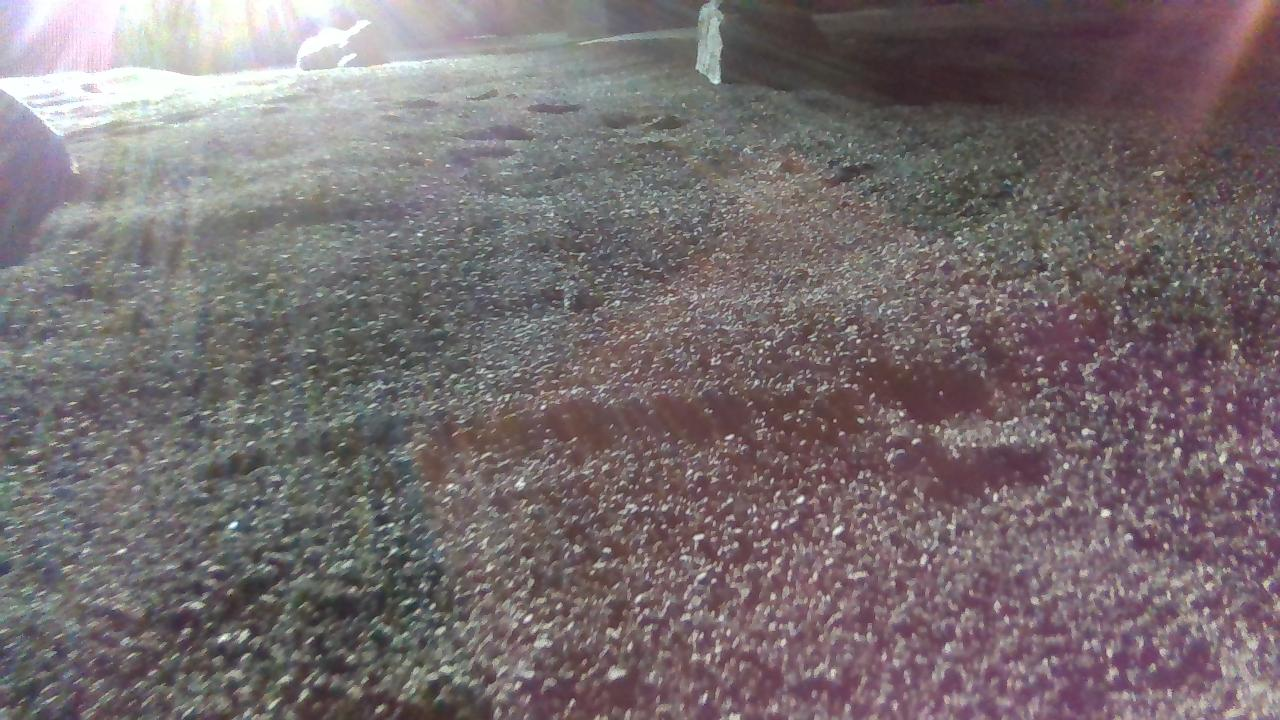rock: (296, 18, 387, 69), (696, 0, 724, 82)
